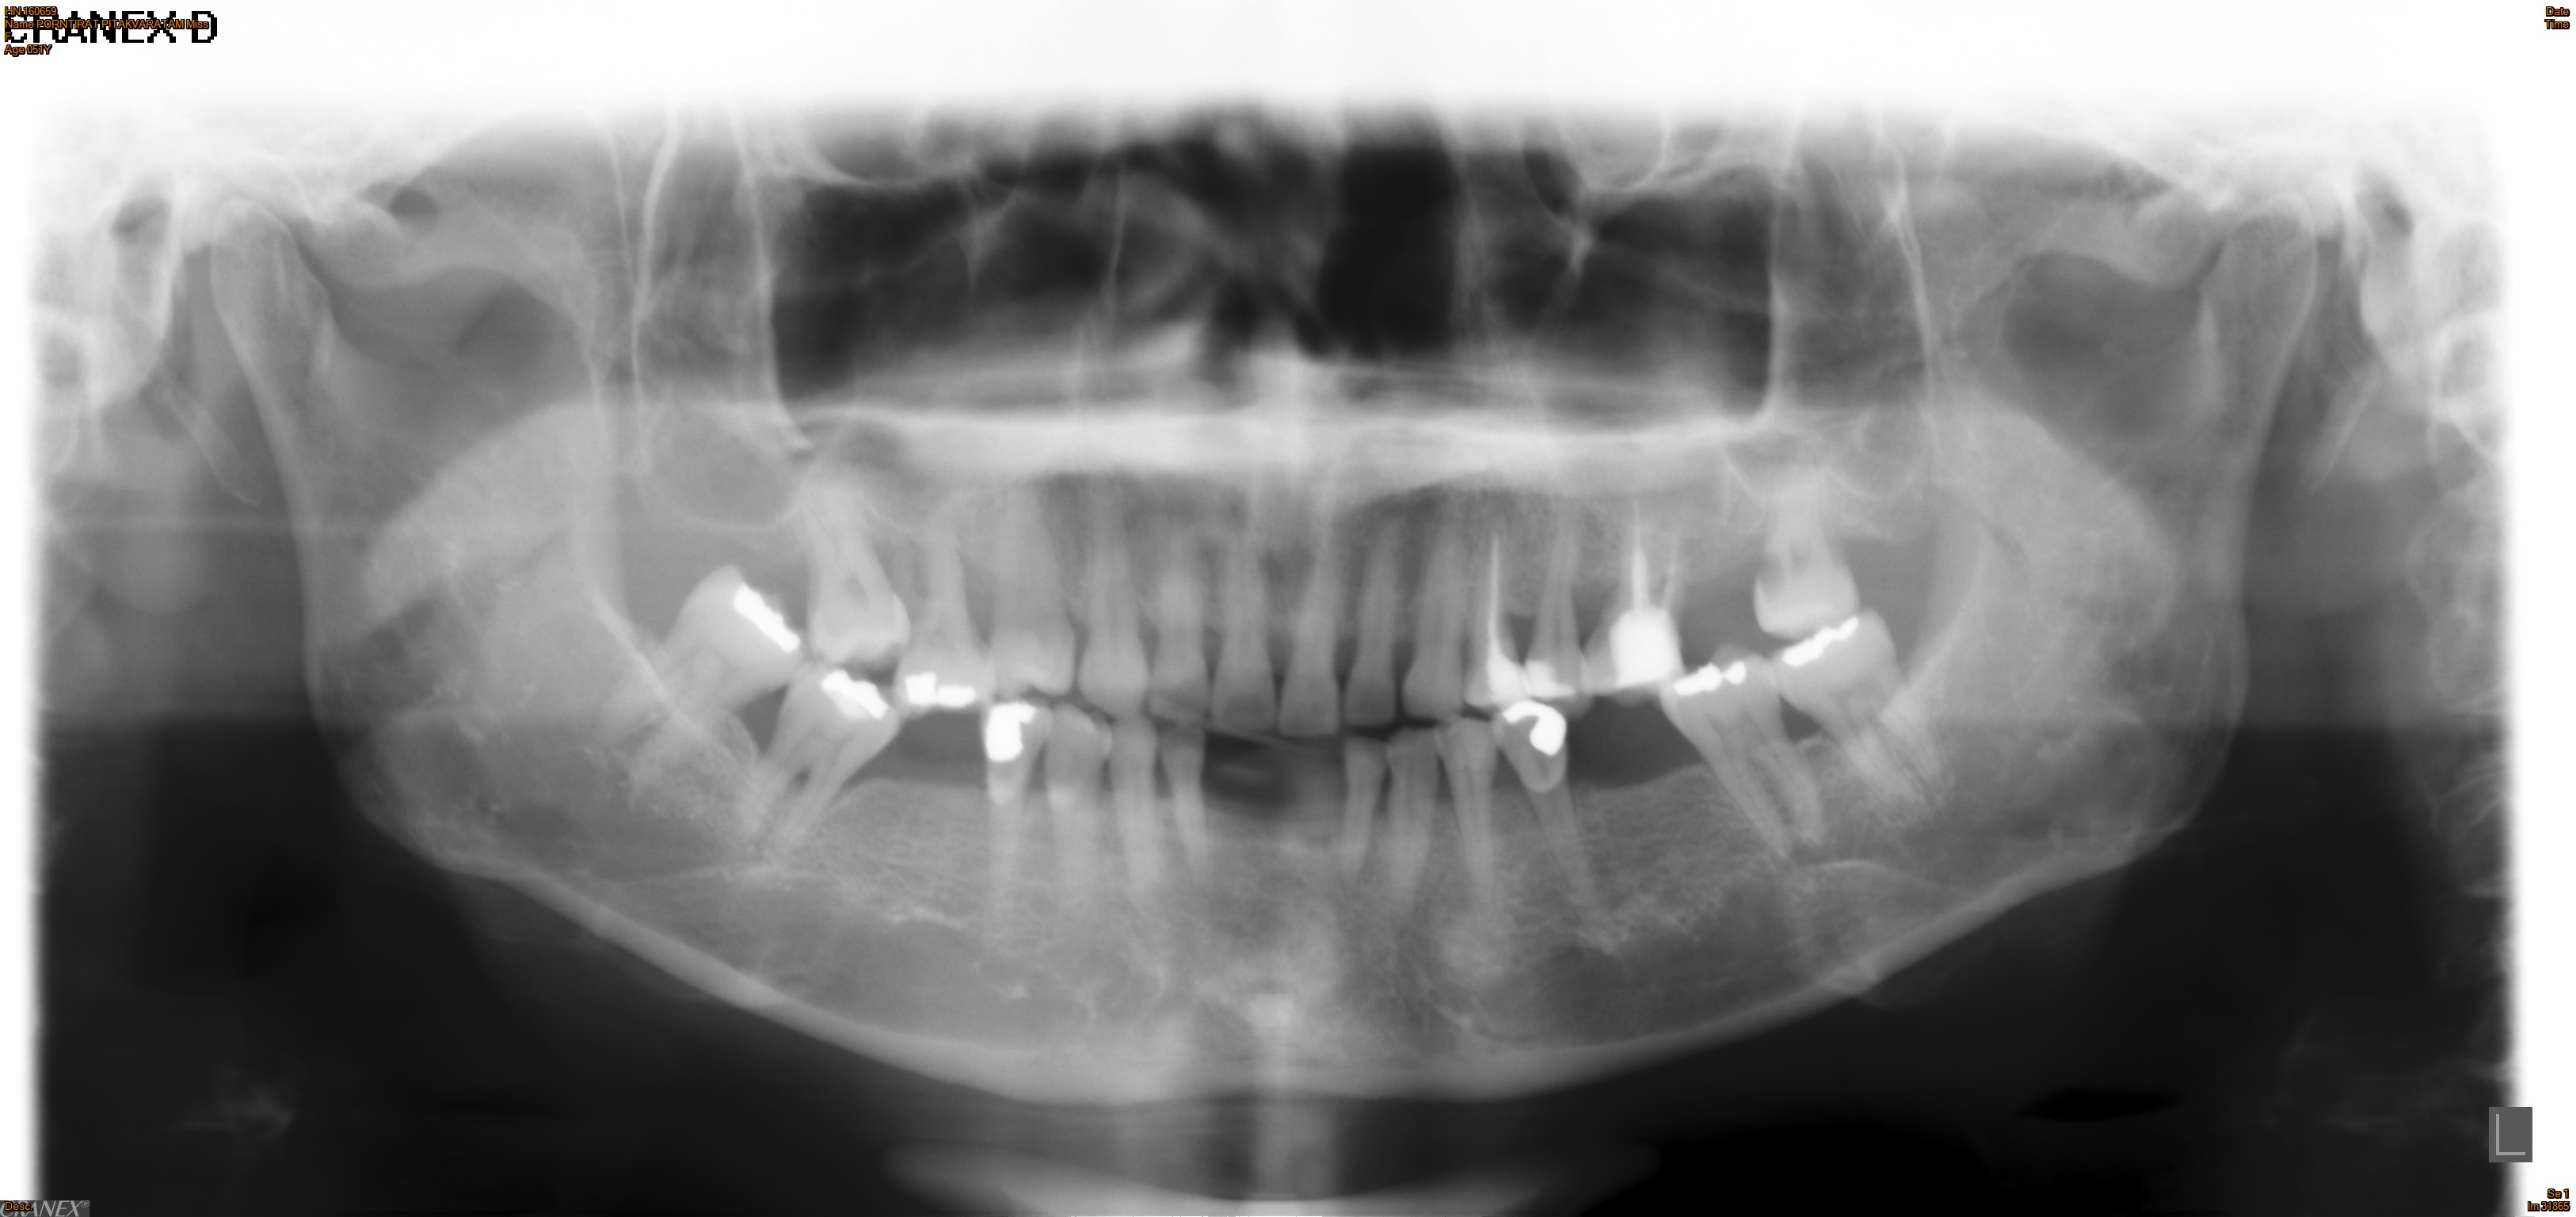periodontitis: (554, 555, 810, 805), (1763, 599, 1980, 824), (711, 647, 913, 872), (1659, 647, 1837, 869), (1574, 489, 1710, 719), (1513, 498, 1607, 710)
